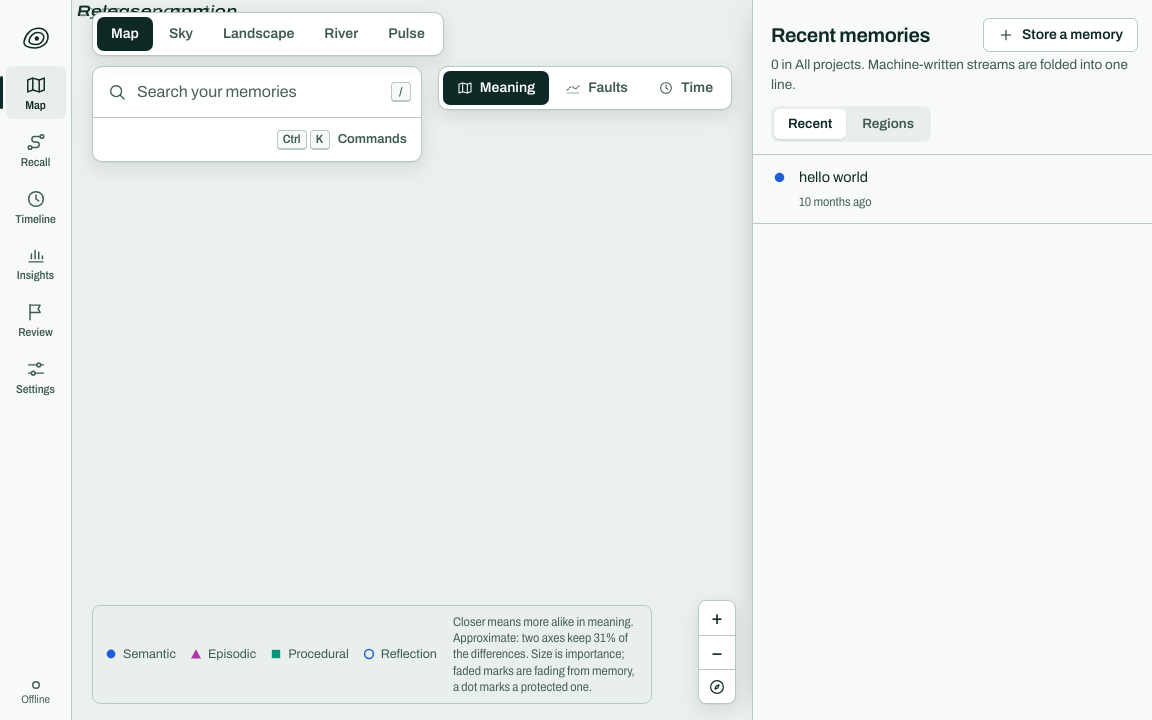
Scenario: Shell keyboard › says the memory was stored, once the dialog has stored it
Expected: the heading "Recent memories" is shown, [771,24,930,46]
Click the button "Store a memory" at (1060, 35), box [983,18,1138,52]
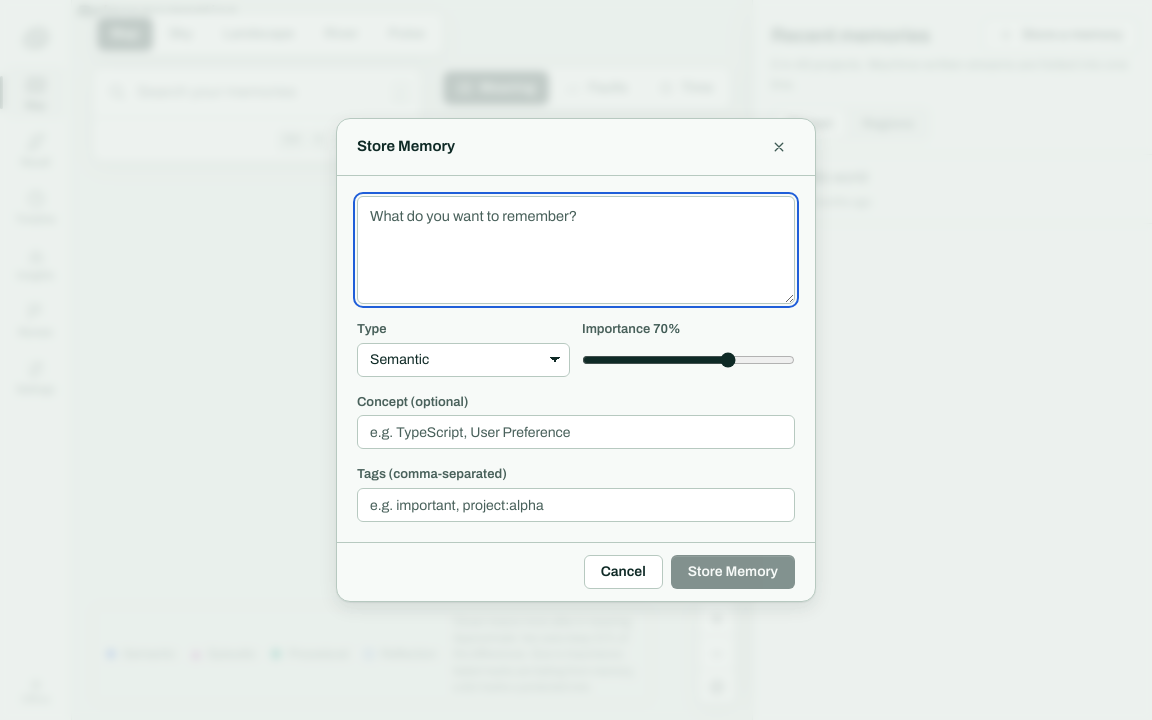
Type "A new fact." into the text box with placeholder "What do you want to remember?" at (576, 250), box [357,196,795,304]
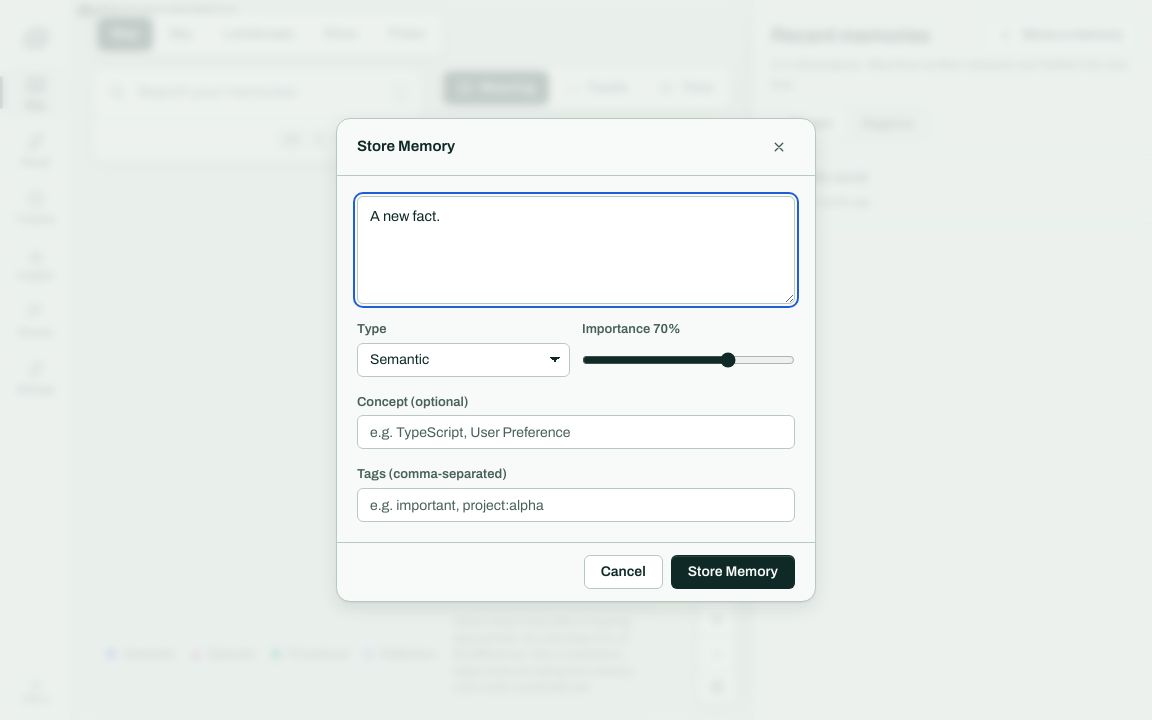
Click the button "Store Memory" at (733, 572), box [671,555,795,589]
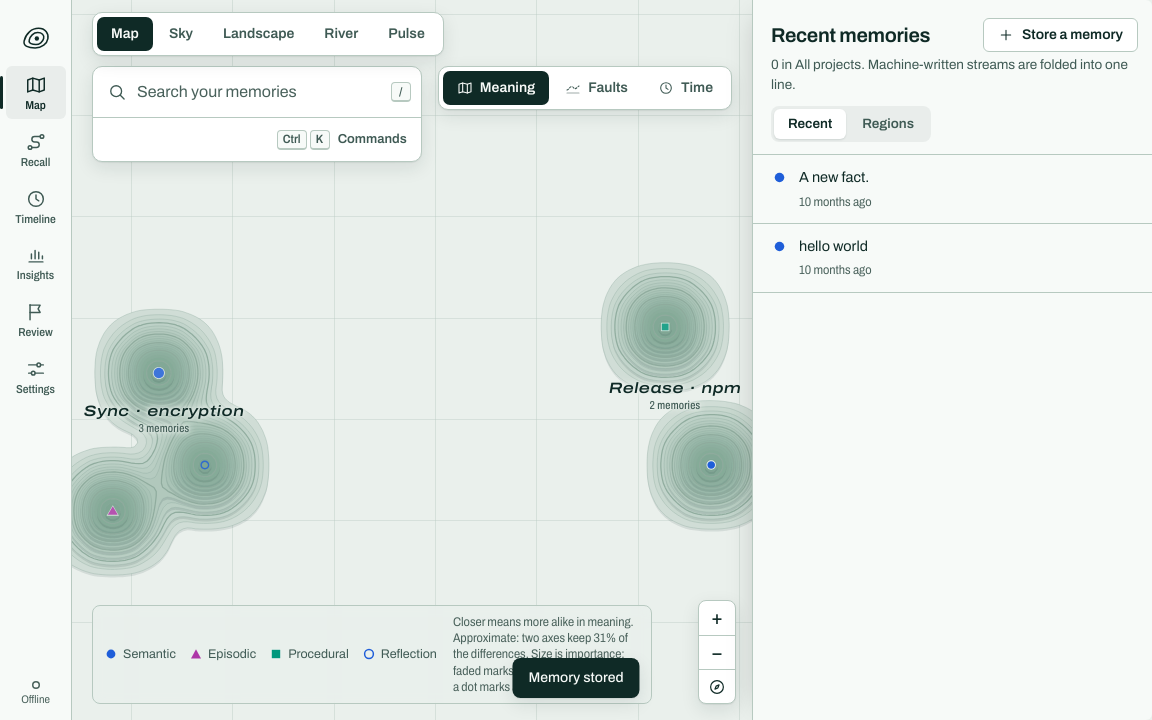
Expected: the text "Memory stored" is shown, [528,668,624,688]
